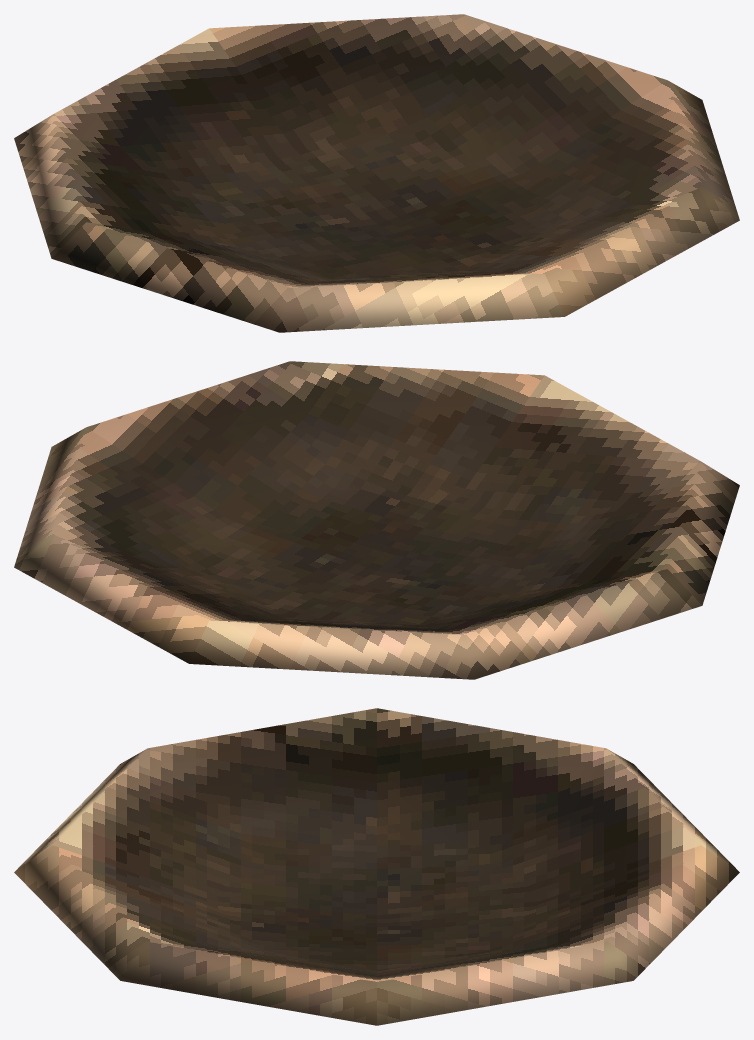
File: stst127.dae
3 renders of one model, top to bottom at view 1: azimuth 30°, elevation 25°; view 2: azimuth 150°, elevation 25°; view 3: azimuth 270°, elevation 25°, orthographic. The views are drawn at different scales.
Visible parts, largest first — view 1: pot; view 2: pot; view 3: pot.
Part boxes in pixels (bbox=[...]): pot: bbox=[14, 14, 739, 332]; pot: bbox=[14, 361, 739, 679]; pot: bbox=[14, 708, 739, 1025].
Size of the model in its own units: 1 by 1 by 0.1413.
Materials: 1 (1 with a texture image).
